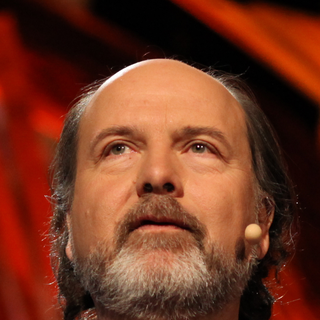eye: (174, 133, 225, 166), (92, 139, 141, 165)
